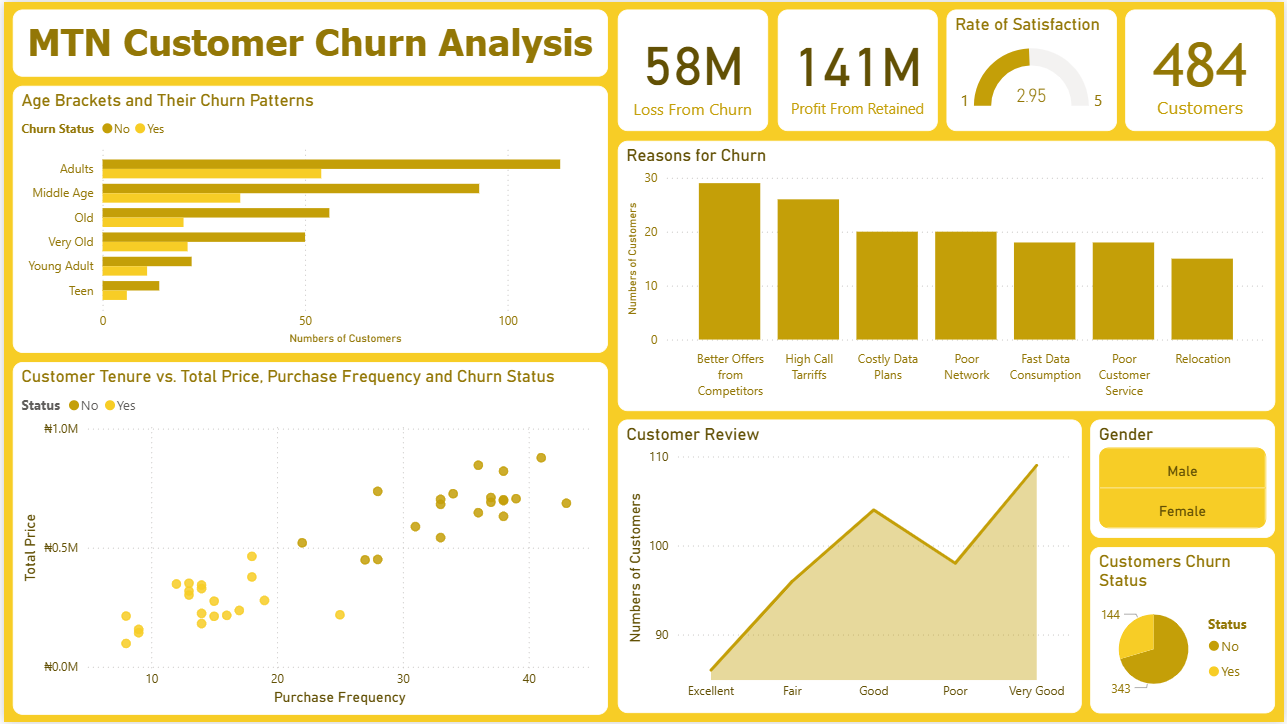

The page's visual inventory and layout, read from the dashboard file:
{"tool":"powerbi","page":{"name":"Page 1","canvas":[1280,720],"ordinal":0},"visuals":[{"type":"pieChart","title":"Customers Churn Status","fields":{"Category":["mtn_customer_churn.Customer Churn Status"],"Y":["mtn_customer_churn.Full Name"]},"box":[1095,516.2,185,203.8],"z":0},{"type":"gauge","title":"Rate of Satisfaction","fields":{"Y":["mtn_customer_churn.Satisfaction Rate"],"MinValue":["mtn_customer_churn.Satisfaction Rate"],"MaxValue":["Sum(mtn_customer_churn.Satisfaction Rate)1"]},"box":[926.2,0,182.5,122.5],"z":1000},{"type":"clusteredBarChart","title":"Age Brackets and Their Churn Patterns","fields":{"Category":["mtn_customer_churn.Age Bracket"],"Series":["mtn_customer_churn.Customer Churn Status"],"Y":["mtn_customer_churn.Full Name"]},"box":[0,85,618.8,266.2],"z":2000},{"type":"card","fields":{"Values":["mtn_customer_churn.Full Name"]},"box":[1108.8,0,171.2,122.5],"z":3000},{"type":"textbox","box":[0,0,618.8,85],"z":4000},{"type":"lineStackedColumnComboChart","title":"Reasons for Churn","fields":{"Category":["mtn_customer_churn.Reasons for Churn"],"Y":["mtn_customer_churn.Full Name"]},"box":[618.8,122.5,661.2,271.2],"z":5000},{"type":"stackedAreaChart","title":"Customer Review","fields":{"Category":["mtn_customer_churn.Customer Review"],"Y":["mtn_customer_churn.Full Name"]},"box":[618.8,393.8,476.2,326.2],"z":6000},{"type":"advancedSlicerVisual","fields":{"Values":["mtn_customer_churn.Gender"]},"box":[1095,393.8,185,118.8],"z":7000},{"type":"scatterChart","title":"Customer Tenure vs. Total Price, Purchase Frequency and Churn Status","fields":{"X":["mtn_customer_churn.Customer Tenure in months"],"Y":["mtn_customer_churn. Unit Price "],"Series":["mtn_customer_churn.Customer Churn Status"],"Category":["mtn_customer_churn.Number of Times Purchased"]},"box":[0,351.2,618.8,368.8],"z":8000},{"type":"card","fields":{"Values":["mtn_customer_churn.Loss From Churn"]},"box":[618.8,0,147.5,122.5],"z":9000},{"type":"card","fields":{"Values":["mtn_customer_churn.Profit From Retained"]},"box":[766.2,0,160,122.5],"z":10000}]}

Visuals, with their boxes in screenshot pixels (x1, y1, x2, y2), scaled from the page's 1280x720 canvas onto the 1287x724 screenshot:
"Customers Churn Status" pieChart: <bbox>1101, 519, 1286, 723</bbox>
"Rate of Satisfaction" gauge: <bbox>931, 0, 1115, 123</bbox>
"Age Brackets and Their Churn Patterns" clusteredBarChart: <bbox>0, 85, 622, 353</bbox>
card - mtn_customer_churn.Full Name: <bbox>1115, 0, 1286, 123</bbox>
textbox: <bbox>0, 0, 622, 85</bbox>
"Reasons for Churn" lineStackedColumnComboChart: <bbox>622, 123, 1286, 396</bbox>
"Customer Review" stackedAreaChart: <bbox>622, 396, 1101, 723</bbox>
advancedSlicerVisual - mtn_customer_churn.Gender: <bbox>1101, 396, 1286, 515</bbox>
"Customer Tenure vs. Total Price, Purchase Frequency and Churn Status" scatterChart: <bbox>0, 353, 622, 723</bbox>
card - mtn_customer_churn.Loss From Churn: <bbox>622, 0, 770, 123</bbox>
card - mtn_customer_churn.Profit From Retained: <bbox>770, 0, 931, 123</bbox>
